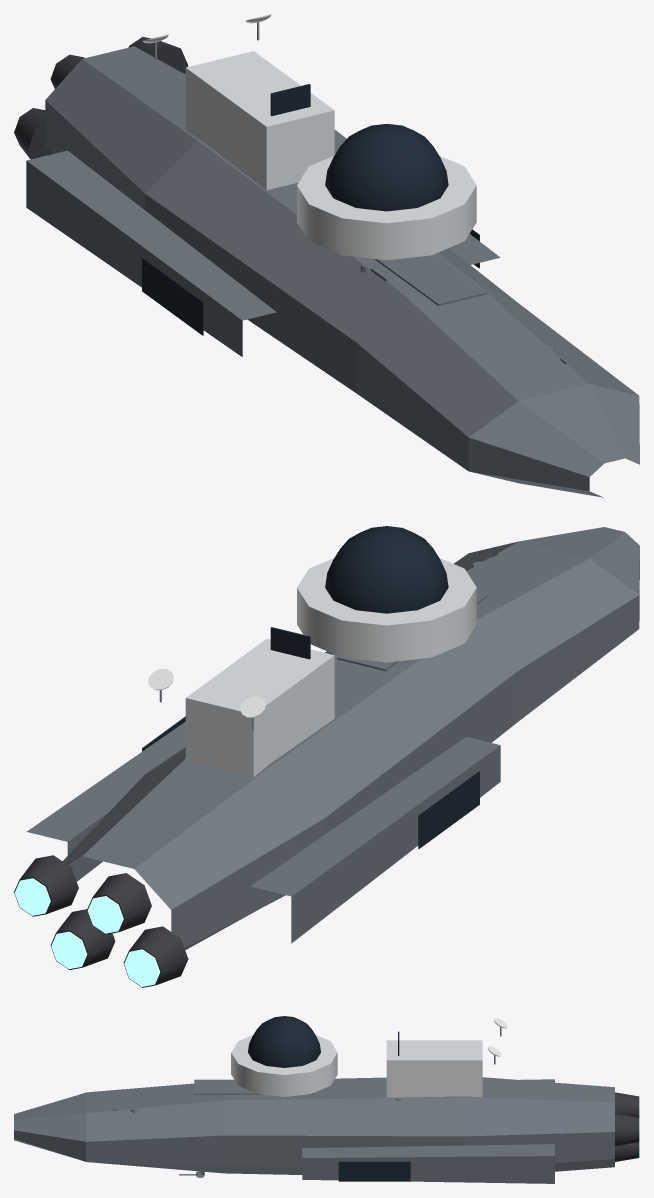
Rendered from space_ship_command_ship_mk3.glb.
3 renders of one model, top to bottom at view 1: azimuth 30°, elevation 25°; view 2: azimuth 150°, elevation 25°; view 3: azimuth 270°, elevation 25°, orthographic. The views are drawn at different scales.
Visible parts, largest first — view 1: body, hangar_r, engine_0, engine_3; view 2: body, engine_0, engine_3, engine_1, engine_2, hangar_r; view 3: body, hangar_l, engine_3, engine_1, engine_2.
Boxes of the visible parts, left/top/right/bottom form: body: left=26, top=46, right=639, bottom=497; hangar_r: left=142, top=257, right=203, bottom=335; engine_0: left=14, top=108, right=52, bottom=159; engine_3: left=128, top=37, right=188, bottom=73; body: left=26, top=526, right=639, bottom=949; engine_0: left=123, top=926, right=188, bottom=987; engine_3: left=14, top=855, right=78, bottom=916; engine_1: left=87, top=873, right=151, bottom=934; engine_2: left=50, top=909, right=115, bottom=969; hangar_r: left=418, top=771, right=479, bottom=848; body: left=14, top=1016, right=614, bottom=1183; hangar_l: left=338, top=1161, right=410, bottom=1181; engine_3: left=615, top=1113, right=639, bottom=1146; engine_1: left=615, top=1092, right=639, bottom=1118; engine_2: left=615, top=1141, right=639, bottom=1161.
Size of what is drawn, in the model's own units: 31.34 by 27.04 by 103.
